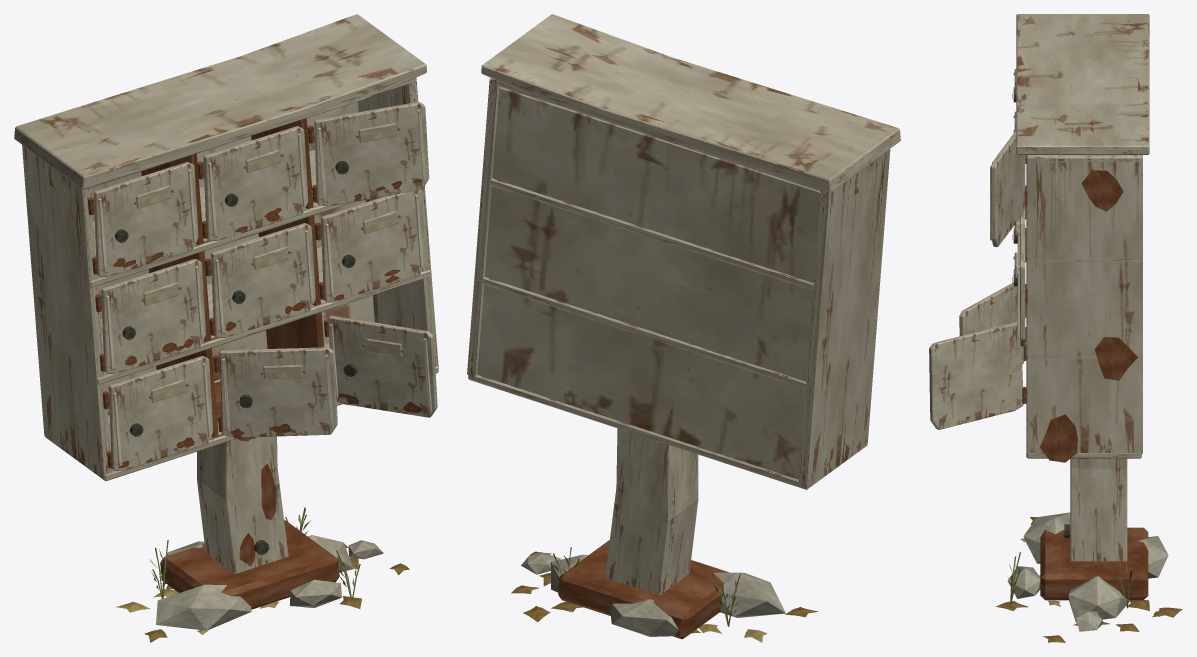
File: nb_mailboxes.glb
3 views of the same model, side by side, from view 1: azimuth 30°, elevation 25°; view 2: azimuth 150°, elevation 25°; view 3: azimuth 270°, elevation 25° (orthographic). The views are drawn at different scales.
Visible parts, largest first — view 1: Communal_Mailboxes_Leaning_Body, Mailbox_Door_12_Ajar, Mailbox_Door_33_Ajar, Mailbox_Door_32_Closed, Mailbox_Door_11_Closed, Mailbox_Door_31_Closed, Mailbox_Door_21_Closed, Mailbox_Door_22_Closed, Mailbox_Door_23_Closed, Mailbox_Door_13_Ajar; view 2: Communal_Mailboxes_Leaning_Body; view 3: Communal_Mailboxes_Leaning_Body, Mailbox_Door_13_Ajar, Mailbox_Door_33_Ajar, Mailbox_Door_12_Ajar, Mailbox_Door_23_Closed.
Part boxes in pixels (box(x1,y1,x2,y2)): Communal_Mailboxes_Leaning_Body: box(14, 14, 438, 642); Mailbox_Door_12_Ajar: box(213, 347, 337, 438); Mailbox_Door_33_Ajar: box(307, 102, 429, 206); Mailbox_Door_32_Closed: box(197, 126, 308, 240); Mailbox_Door_11_Closed: box(102, 356, 213, 470); Mailbox_Door_31_Closed: box(87, 162, 198, 276); Mailbox_Door_21_Closed: box(95, 259, 205, 373); Mailbox_Door_22_Closed: box(205, 223, 315, 337); Mailbox_Door_23_Closed: box(314, 190, 425, 302); Mailbox_Door_13_Ajar: box(324, 315, 437, 417); Communal_Mailboxes_Leaning_Body: box(467, 14, 900, 642); Communal_Mailboxes_Leaning_Body: box(995, 14, 1182, 642); Mailbox_Door_13_Ajar: box(929, 321, 1026, 429); Mailbox_Door_33_Ajar: box(990, 130, 1027, 247); Mailbox_Door_12_Ajar: box(959, 282, 1026, 364); Mailbox_Door_23_Closed: box(1012, 224, 1027, 346).
Size of the model in its own units: 1.34 by 1.87 by 0.8465.
1 material, 1 textured.
